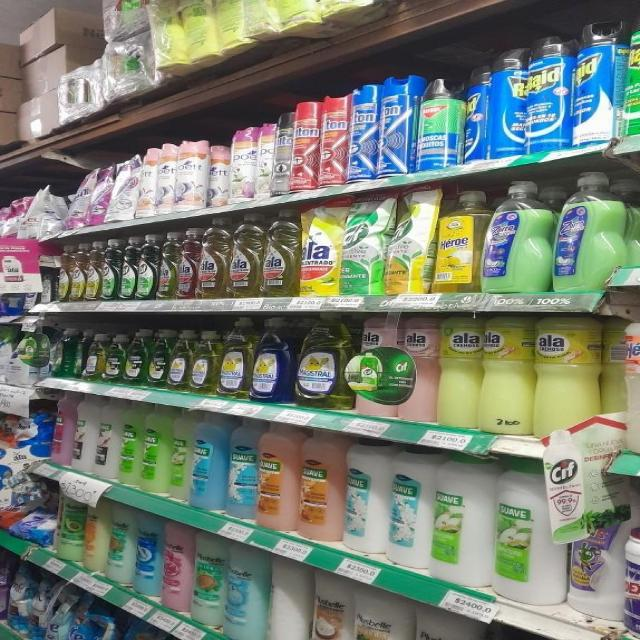ala_conc_amarillo: (262, 208, 299, 298), (230, 212, 261, 298), (200, 216, 228, 299), (158, 230, 178, 300)
ala_conc_rojo: (179, 228, 199, 300)
ala_crem_amarillo: (534, 312, 601, 436), (481, 312, 533, 435), (437, 312, 480, 429)
ala_crem_rosado: (351, 311, 426, 419)
ala_sachet_amarillo: (300, 201, 339, 296)
cif_conc_bot_amarilla: (69, 243, 85, 302), (85, 240, 100, 301)
cif_conc_botella_verde: (138, 233, 156, 300), (101, 238, 119, 301), (120, 236, 136, 301)
cif_conc_sachet_verde: (341, 193, 383, 295)
magistral_con_amarillo: (295, 313, 347, 409), (220, 317, 252, 398), (190, 329, 218, 394), (168, 329, 191, 391)
magistral_con_azul: (253, 317, 292, 403)
zorro: (554, 170, 626, 292)
